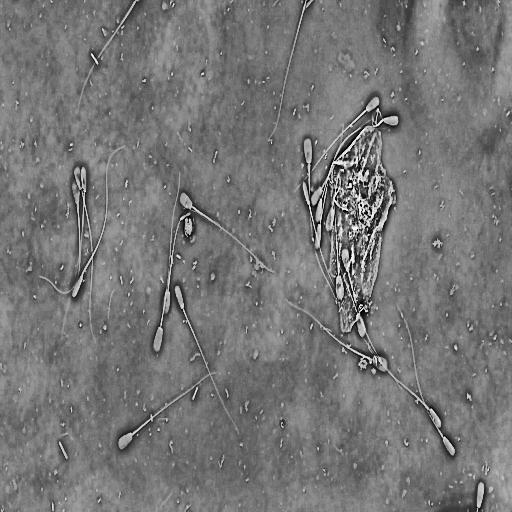coiled-tail: (372, 110, 384, 127)
dirt-particles: (327, 123, 399, 336), (182, 214, 196, 240)
loose-tail: (76, 0, 140, 116), (266, 0, 308, 144)
normal: (173, 282, 241, 438), (395, 301, 457, 459), (292, 92, 381, 195), (71, 144, 127, 299), (178, 189, 276, 275), (117, 370, 218, 453), (315, 117, 377, 251), (286, 297, 390, 375), (363, 338, 443, 430), (151, 166, 183, 356), (302, 135, 336, 300), (59, 164, 88, 343), (38, 177, 81, 296), (73, 165, 98, 346), (160, 208, 195, 316), (370, 108, 400, 129)
proximal-droplet: (76, 202, 80, 210)
